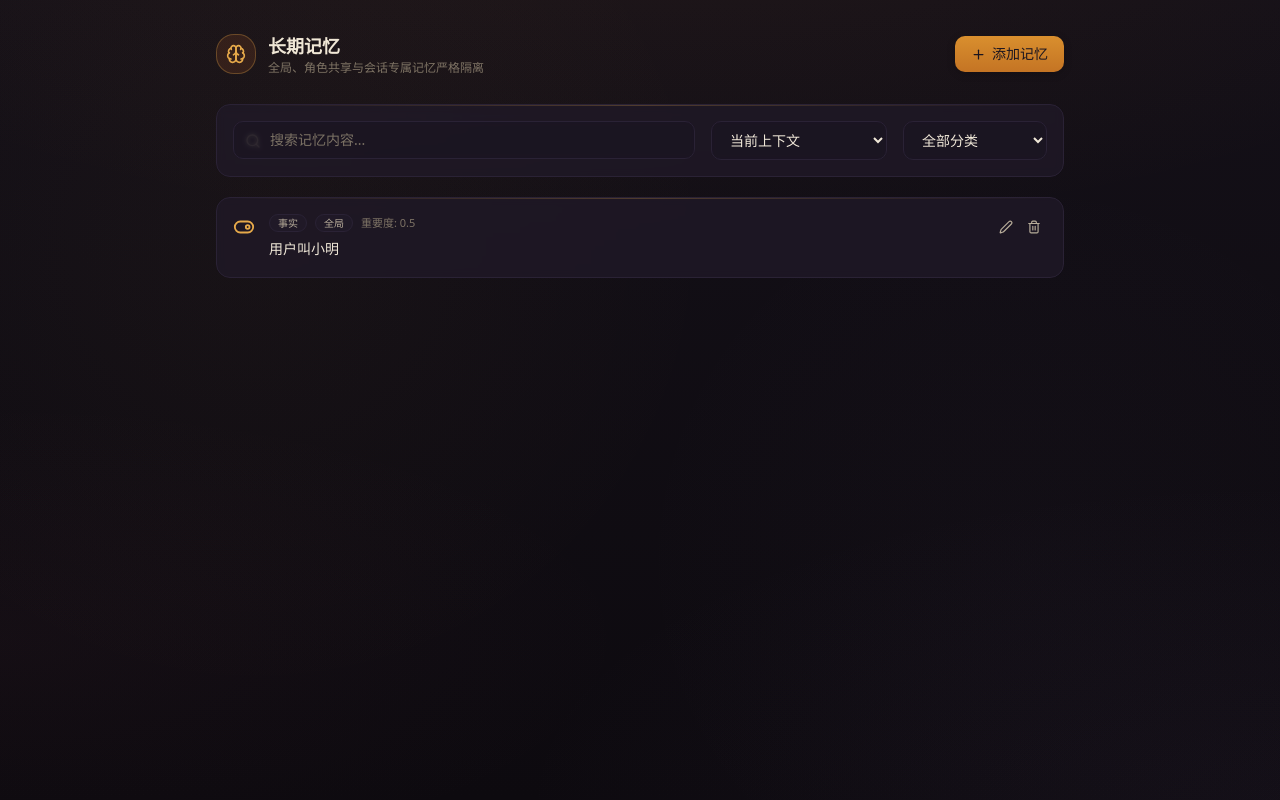
Scenario: MemoryPage duplicate handling › offers the definition category and treats legacy user_fact as fact when editing
Expected: the text "用户叫小明" is shown, [269,239,339,258]
Click the button "添加记忆".
click(1010, 54)  # box [955,36,1064,72]
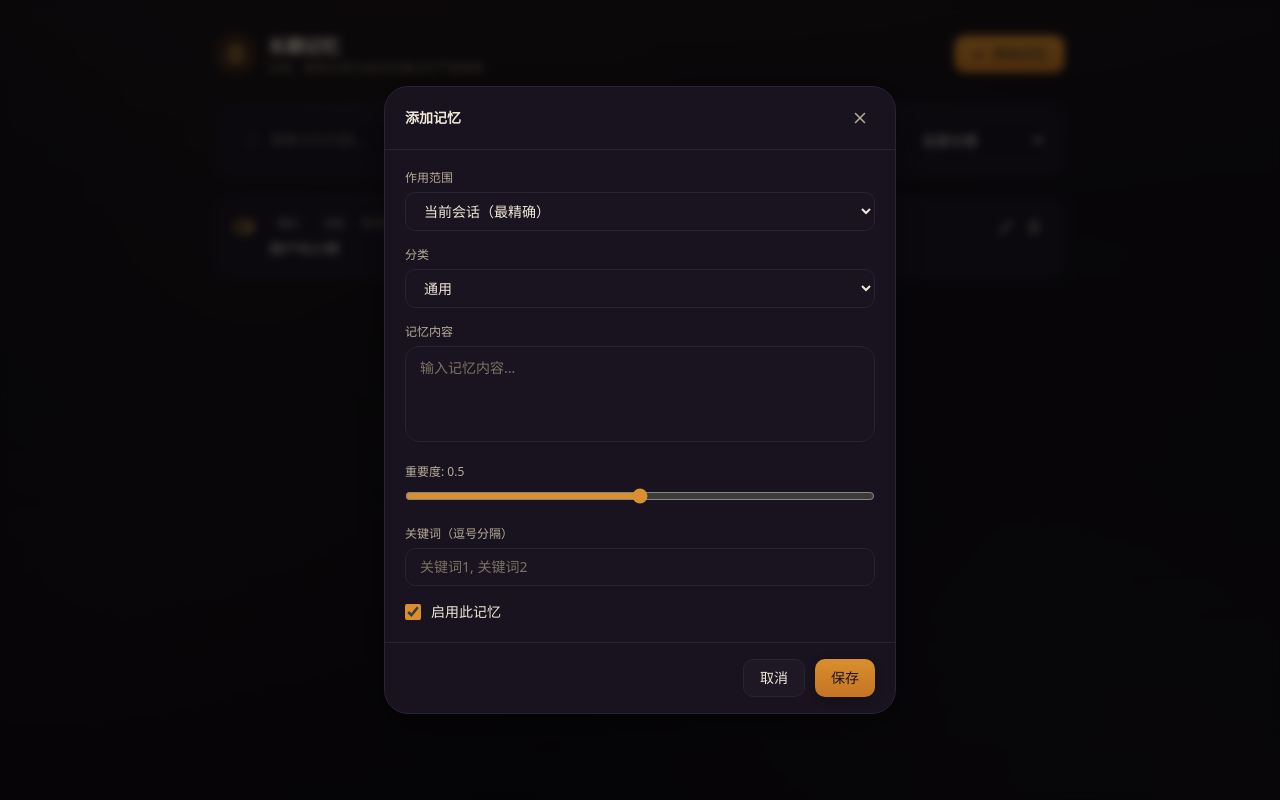
Click the button "取消".
click(774, 678)  # box [743,659,805,697]
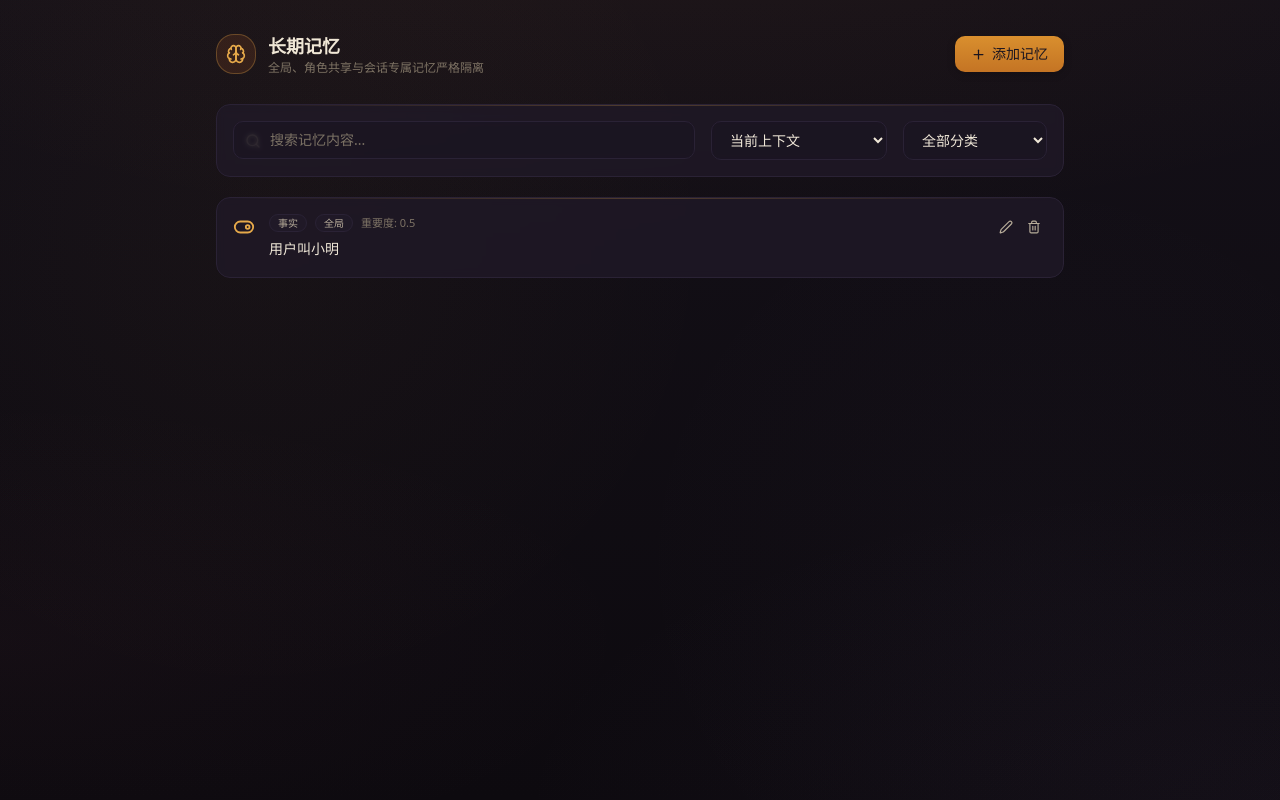
Click the button named "编辑记忆".
click(1006, 227)  # box [993,214,1019,240]
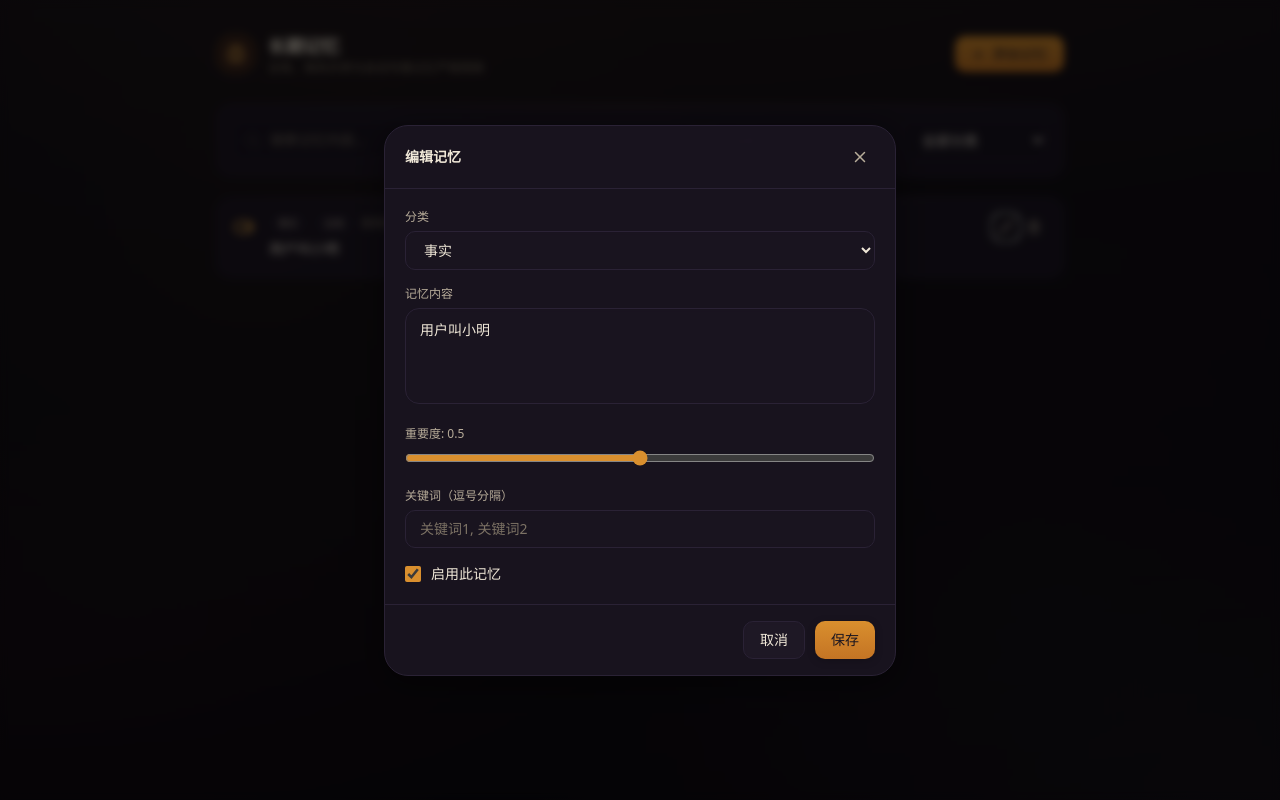
Expected: the dropdown labelled "分类" shows "事实", [405,230,875,270]
